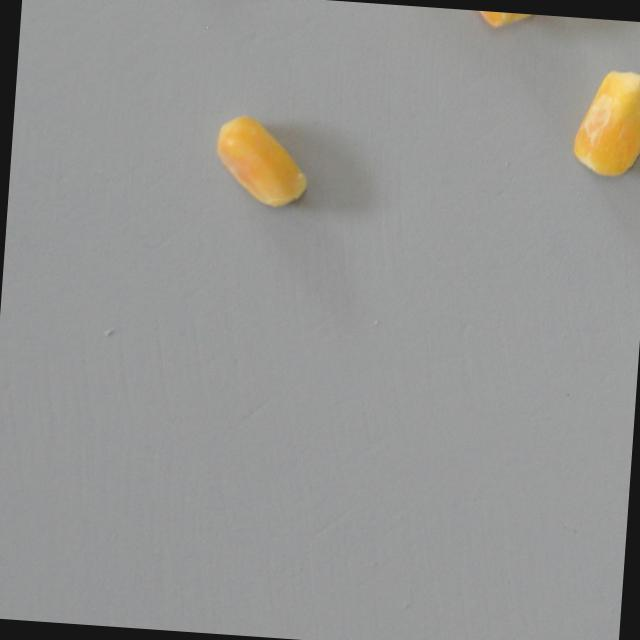dañado: (204, 109, 316, 217)
pelicula: (557, 39, 640, 203), (443, 8, 538, 31)
